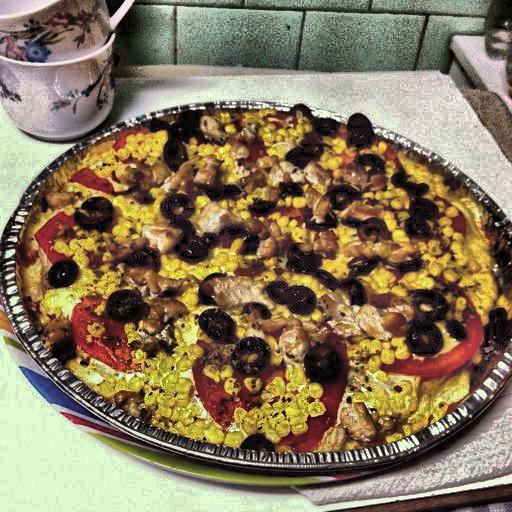pizza: (22, 121, 512, 482)
